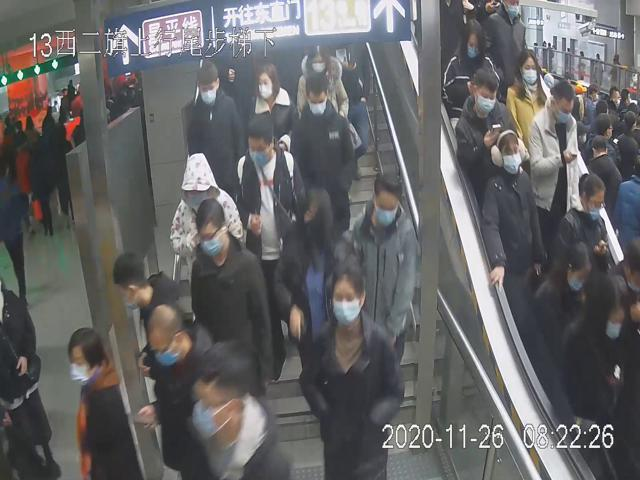person: (298, 260, 403, 480), (191, 198, 277, 395), (351, 169, 418, 372), (479, 126, 545, 310), (237, 112, 304, 288), (291, 69, 354, 228), (167, 151, 243, 273), (527, 79, 582, 243), (185, 60, 244, 192), (550, 171, 613, 276), (455, 64, 515, 172), (442, 14, 499, 124), (296, 45, 352, 119), (250, 60, 296, 134)
